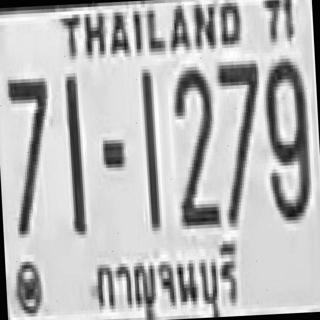N01: (63, 73, 85, 232), (140, 68, 160, 230), (140, 69, 158, 228)
N02: (170, 64, 218, 228)
N07: (215, 60, 264, 224), (5, 75, 52, 235), (215, 59, 262, 178), (5, 74, 50, 194)
N09: (262, 54, 311, 218)
P17: (89, 234, 248, 320)
